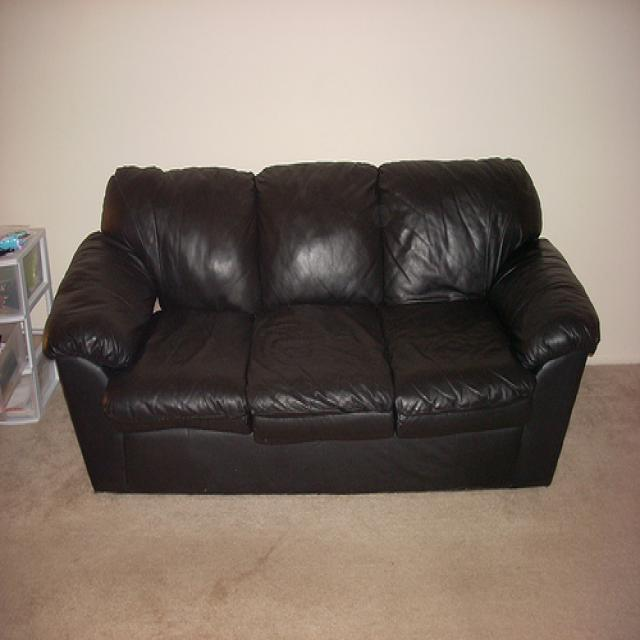sofa: (42, 160, 601, 496)
